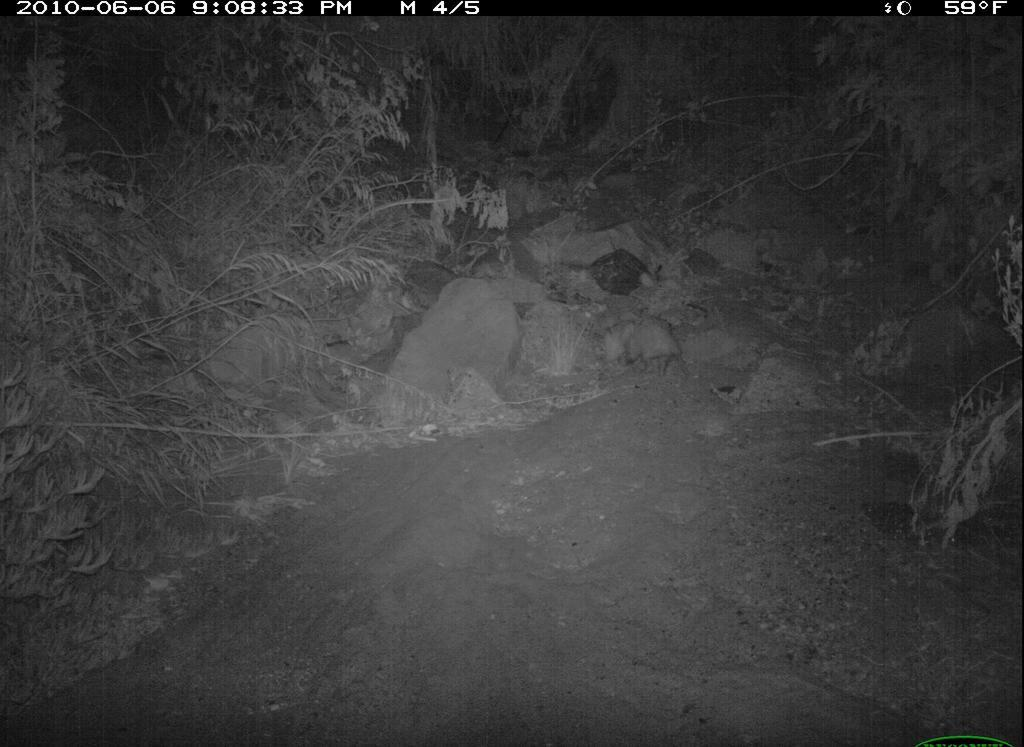opossum: (612, 301, 697, 373)
